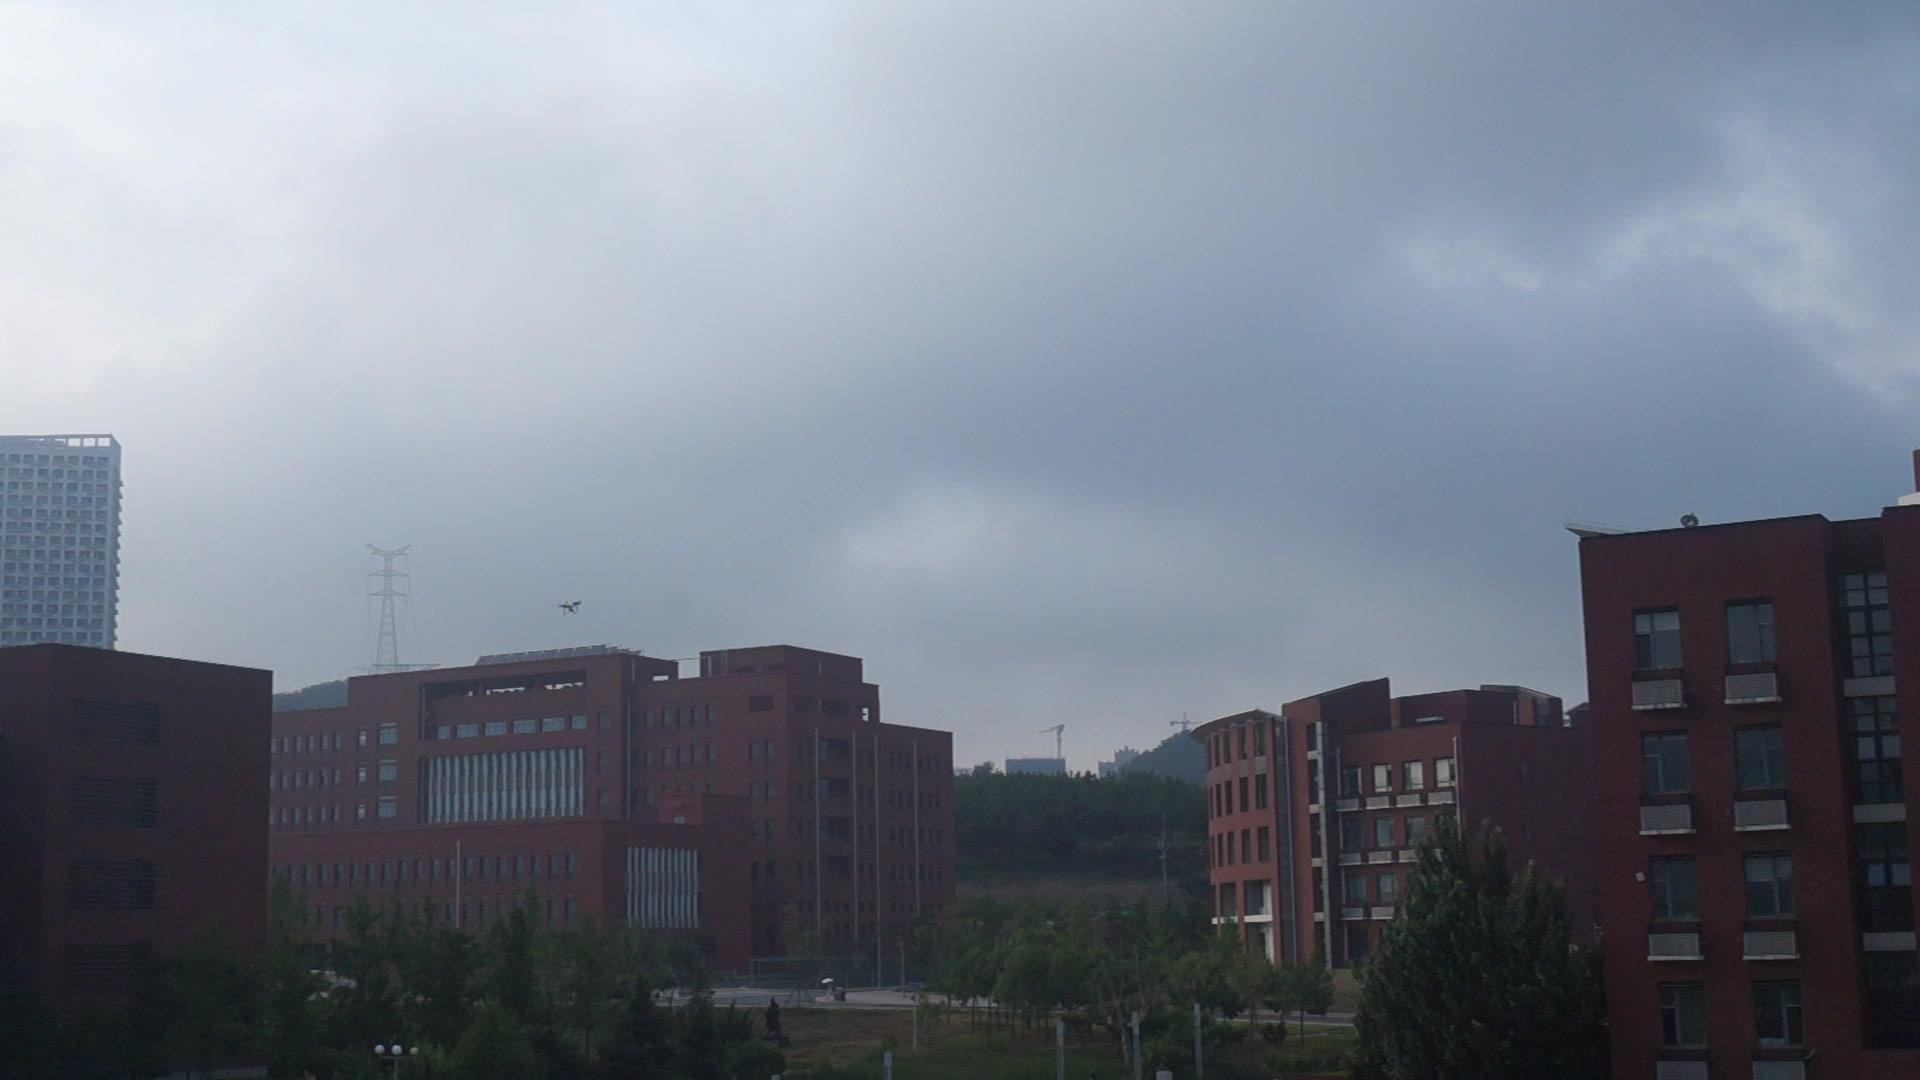UAV: (554, 601, 585, 616)
